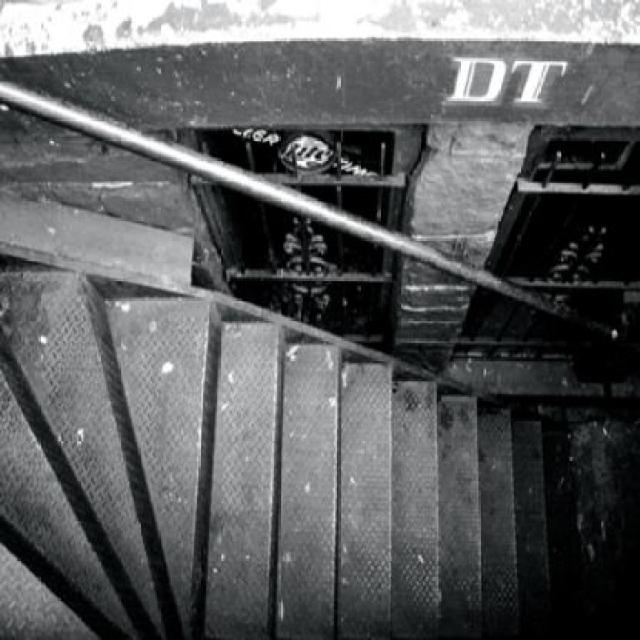stair: (0, 255, 555, 638)
